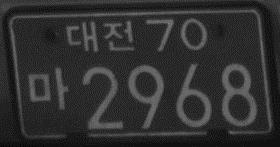0: (179, 17, 208, 53)
2: (81, 64, 124, 132)
6: (174, 61, 212, 129)
7: (144, 16, 176, 54)
8: (219, 62, 259, 127)
9: (125, 63, 165, 131)
대전_O: (64, 18, 137, 53)
마: (25, 65, 70, 114)
